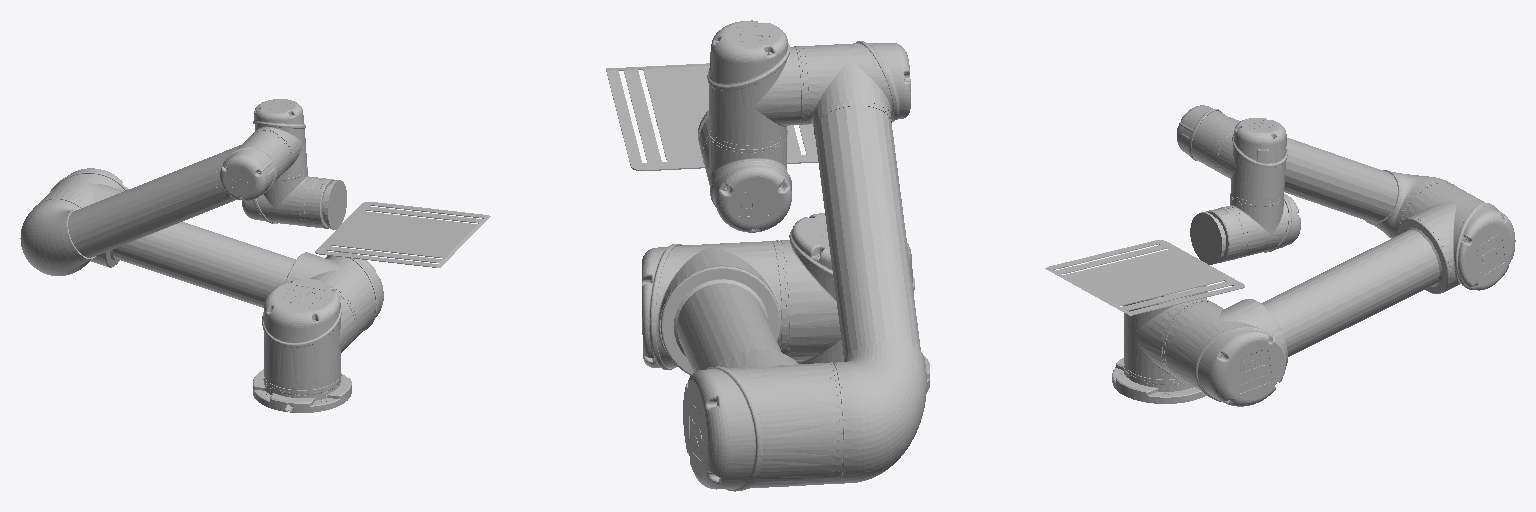
URDF robot description (UR5_fliper):
<?xml version="1.0" encoding="utf-8"?>
<!-- This URDF was automatically created by SolidWorks to URDF Exporter! Originally created by [author] ([email redacted]) 
     Commit Version: 1.6.0-1-g15f4949  Build Version: 1.6.7594.29634
     For more information, please see http://wiki.ros.org/sw_urdf_exporter -->
<robot
  name="UR5_fliper">
  <link
    name="Base">
    <inertial>
      <origin
        xyz="-0.165004284473545 0.0165607580747377 0.000367578184848352"
        rpy="0 0 0" />
      <mass
        value="0.504310536001636" />
      <inertia
        ixx="0.000602583494773675"
        ixy="1.52772510810869E-06"
        ixz="-1.7501892098228E-05"
        iyy="0.00107088535247836"
        iyz="-1.52407378789196E-06"
        izz="0.000602609343090757" />
    </inertial>
    <visual>
      <origin
        xyz="0 0 0"
        rpy="0 0 0" />
      <geometry>
        <mesh
          filename="package://UR5_fliper/meshes/Base.STL" />
      </geometry>
      <material
        name="">
        <color
          rgba="0.752941176470588 0.752941176470588 0.752941176470588 1" />
      </material>
    </visual>
    <collision>
      <origin
        xyz="0 0 0"
        rpy="0 0 0" />
      <geometry>
        <mesh
          filename="package://UR5_fliper/meshes/Base.STL" />
      </geometry>
    </collision>
  </link>
  <link
    name="L1">
    <inertial>
      <origin
        xyz="-0.0789664232170492 0.016439225224334 -6.16598136958524E-06"
        rpy="0 0 0" />
      <mass
        value="1.57302816596076" />
      <inertia
        ixx="0.00282986624241528"
        ixy="0.000319347012558025"
        ixz="-1.48241164062108E-07"
        iyy="0.00253796949118933"
        iyz="4.44076781306191E-07"
        izz="0.00262075724148173" />
    </inertial>
    <visual>
      <origin
        xyz="0 0 0"
        rpy="0 0 0" />
      <geometry>
        <mesh
          filename="package://UR5_fliper/meshes/L1.STL" />
      </geometry>
      <material
        name="">
        <color
          rgba="0.752941176470588 0.752941176470588 0.752941176470588 1" />
      </material>
    </visual>
    <collision>
      <origin
        xyz="0 0 0"
        rpy="0 0 0" />
      <geometry>
        <mesh
          filename="package://UR5_fliper/meshes/L1.STL" />
      </geometry>
    </collision>
  </link>
  <joint
    name="J1"
    type="continuous">
    <origin
      xyz="-0.164637260701658 0 0.00999155223323138"
      rpy="0.923708674476817 1.5707963267949 0" />
    <parent
      link="Base" />
    <child
      link="L1" />
    <axis
      xyz="1 0 0" />
  </joint>
  <link
    name="L2">
    <inertial>
      <origin
        xyz="-0.216516716203034 0.133115093333718 9.61251375858341E-08"
        rpy="0 0 0" />
      <mass
        value="4.66872666797448" />
      <inertia
        ixx="0.00636702149521428"
        ixy="-1.9464590526614E-08"
        ixz="9.00150502174438E-07"
        iyy="0.0218237861667245"
        iyz="-2.30361168359261E-07"
        izz="0.0213266160000516" />
    </inertial>
    <visual>
      <origin
        xyz="0 0 0"
        rpy="0 0 0" />
      <geometry>
        <mesh
          filename="package://UR5_fliper/meshes/L2.STL" />
      </geometry>
      <material
        name="">
        <color
          rgba="0.752941176470588 0.752941176470588 0.752941176470588 1" />
      </material>
    </visual>
    <collision>
      <origin
        xyz="0 0 0"
        rpy="0 0 0" />
      <geometry>
        <mesh
          filename="package://UR5_fliper/meshes/L2.STL" />
      </geometry>
    </collision>
  </link>
  <joint
    name="J2"
    type="continuous">
    <origin
      xyz="-0.0800084477667682 0 0"
      rpy="0 -1.41544784088203 0" />
    <parent
      link="L1" />
    <child
      link="L2" />
    <axis
      xyz="0 1 0" />
  </joint>
  <link
    name="L3">
    <inertial>
      <origin
        xyz="-0.173897633024149 0.0207726450425849 -2.77701557732657E-06"
        rpy="0 0 0" />
      <mass
        value="2.68551952189864" />
      <inertia
        ixx="0.00224101029753479"
        ixy="-0.000112852901048005"
        ixz="4.04064385371727E-07"
        iyy="0.0118077417400091"
        iyz="-2.69170644274326E-07"
        izz="0.0116551631329223" />
    </inertial>
    <visual>
      <origin
        xyz="0 0 0"
        rpy="0 0 0" />
      <geometry>
        <mesh
          filename="package://UR5_fliper/meshes/L3.STL" />
      </geometry>
      <material
        name="">
        <color
          rgba="0.752941176470588 0.752941176470588 0.752941176470588 1" />
      </material>
    </visual>
    <collision>
      <origin
        xyz="0 0 0"
        rpy="0 0 0" />
      <geometry>
        <mesh
          filename="package://UR5_fliper/meshes/L3.STL" />
      </geometry>
    </collision>
  </link>
  <joint
    name="J3"
    type="continuous">
    <origin
      xyz="-0.425 0 0"
      rpy="3.14159265358979 0.685492341241208 3.14159265358979" />
    <parent
      link="L2" />
    <child
      link="L3" />
    <axis
      xyz="0 1 0" />
  </joint>
  <link
    name="L4">
    <inertial>
      <origin
        xyz="0.00375303385840803 0.0987989640699958 1.26799881210726E-05"
        rpy="0 0 0" />
      <mass
        value="0.540828490867422" />
      <inertia
        ixx="0.000411401696889176"
        ixy="4.27831193573069E-05"
        ixz="-2.85527858893326E-07"
        iyy="0.000367439229749344"
        iyz="4.08131882155912E-07"
        izz="0.00038699985508972" />
    </inertial>
    <visual>
      <origin
        xyz="0 0 0"
        rpy="0 0 0" />
      <geometry>
        <mesh
          filename="package://UR5_fliper/meshes/L4.STL" />
      </geometry>
      <material
        name="">
        <color
          rgba="0.752941176470588 0.752941176470588 0.752941176470588 1" />
      </material>
    </visual>
    <collision>
      <origin
        xyz="0 0 0"
        rpy="0 0 0" />
      <geometry>
        <mesh
          filename="package://UR5_fliper/meshes/L4.STL" />
      </geometry>
    </collision>
  </link>
  <joint
    name="J4"
    type="continuous">
    <origin
      xyz="-0.392250000000001 0 0"
      rpy="-3.14159265358979 1.10530237303082 -3.14159265358979" />
    <parent
      link="L3" />
    <child
      link="L4" />
    <axis
      xyz="0 1 0" />
  </joint>
  <link
    name="L5">
    <inertial>
      <origin
        xyz="-0.0837492314926818 -0.00375325508748925 -1.23700063244109E-05"
        rpy="0 0 0" />
      <mass
        value="0.540829838323916" />
      <inertia
        ixx="0.00036744121268581"
        ixy="4.27821358048603E-05"
        ixz="4.1003826036965E-07"
        iyy="0.000411404728664971"
        iyz="-2.86989820095438E-07"
        izz="0.000387000233062868" />
    </inertial>
    <visual>
      <origin
        xyz="0 0 0"
        rpy="0 0 0" />
      <geometry>
        <mesh
          filename="package://UR5_fliper/meshes/L5.STL" />
      </geometry>
      <material
        name="">
        <color
          rgba="0.752941176470588 0.752941176470588 0.752941176470588 1" />
      </material>
    </visual>
    <collision>
      <origin
        xyz="0 0 0"
        rpy="0 0 0" />
      <geometry>
        <mesh
          filename="package://UR5_fliper/meshes/L5.STL" />
      </geometry>
    </collision>
  </link>
  <joint
    name="J5"
    type="continuous">
    <origin
      xyz="0 0.109970000000011 0"
      rpy="-1.57079632679487 0 0" />
    <parent
      link="L4" />
    <child
      link="L5" />
    <axis
      xyz="1 0 0" />
  </joint>
  <link
    name="L6">
    <inertial>
      <origin
        xyz="-0.0047355844859667 0.0866338973654337 0.00539012008848103"
        rpy="0 0 0" />
      <mass
        value="0.231237735635503" />
      <inertia
        ixx="0.000460577480652409"
        ixy="3.74092579990007E-05"
        ixz="-5.775243321851E-05"
        iyy="0.000287507833069325"
        iyz="-4.24277231321077E-05"
        izz="0.00047529403612137" />
    </inertial>
    <visual>
      <origin
        xyz="0 0 0"
        rpy="0 0 0" />
      <geometry>
        <mesh
          filename="package://UR5_fliper/meshes/L6.STL" />
      </geometry>
      <material
        name="">
        <color
          rgba="0.752941176470588 0.752941176470588 0.752941176470588 1" />
      </material>
    </visual>
    <collision>
      <origin
        xyz="0 0 0"
        rpy="0 0 0" />
      <geometry>
        <mesh
          filename="package://UR5_fliper/meshes/L6.STL" />
      </geometry>
    </collision>
  </link>
  <joint
    name="J6"
    type="continuous">
    <origin
      xyz="-0.09492 0 0"
      rpy="0 -0.84499 0" />
    <parent
      link="L5" />
    <child
      link="L6" />
    <axis
      xyz="0 1 0" />
  </joint>
</robot>

--- Facts derived from the render (not from the file) ---
Views: 3 orthographic renders of the robot side by side, from view 1: azimuth 30°, elevation 25°; view 2: azimuth 150°, elevation 25°; view 3: azimuth 270°, elevation 25°.
Robot: UR5_fliper — 7 links, 6 joints (6 continuous); root link Base; default pose: all joints at 0.
Visible links, largest first — view 1: L3, L2, L6, L1, Base, L4, L5; view 2: L2, L3, L4, L6, L1, L5; view 3: L2, L6, L3, L4, L1, L5, Base.
Boxes of the visible links, x1,y1,x2,y2 form: L3: (20,132,289,275); L2: (33,168,383,342); L6: (300,177,490,267); L1: (262,279,356,389); Base: (253,369,351,412); L4: (252,99,306,175); L5: (242,167,309,226); L2: (642,241,842,491); L3: (802,41,926,483); L4: (707,20,808,144); L6: (606,63,818,170); L1: (772,213,914,363); L5: (703,129,791,232); L2: (1165,182,1515,406); L6: (1045,206,1247,315); L3: (1177,105,1449,238); L4: (1215,118,1287,201); L1: (1123,285,1216,378); L5: (1230,193,1300,257); Base: (1112,358,1206,403).
Size in the robot's own frame: 0.5695 by 0.6602 by 0.4137 metres.
7 mesh visuals loaded from 7 distinct referenced files (7 binary STL).